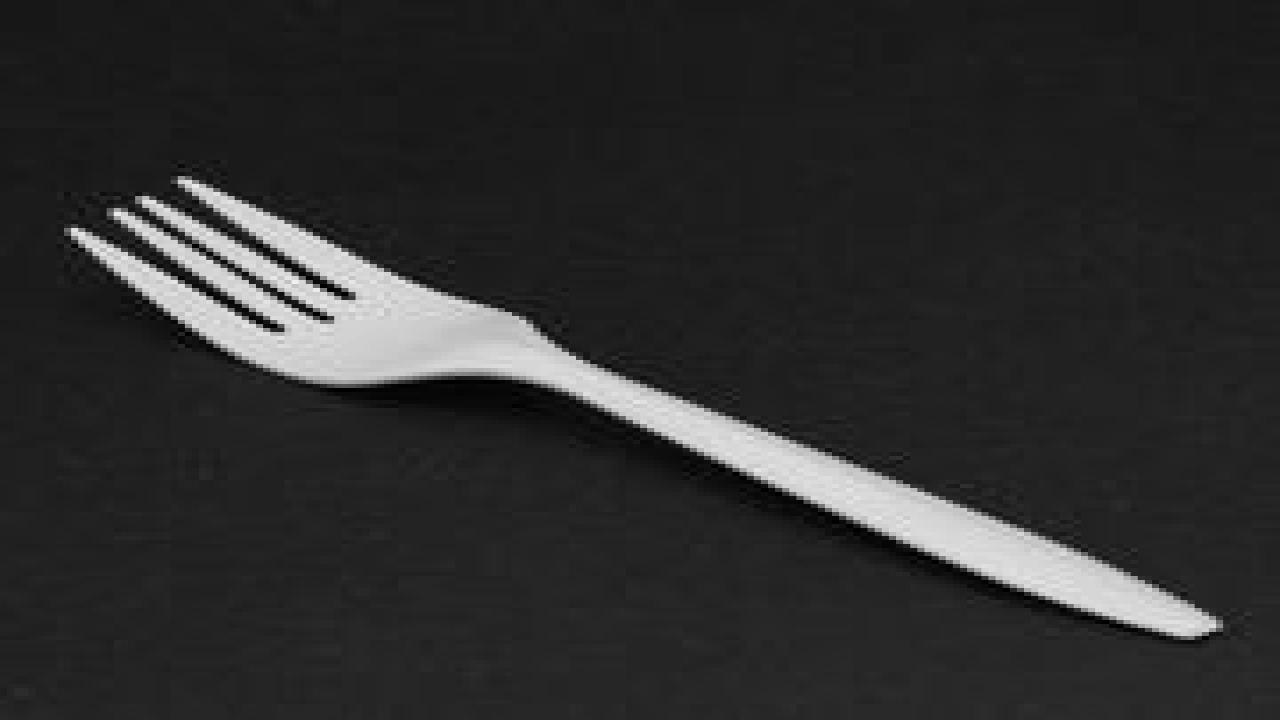fork: (57, 172, 1223, 640)
